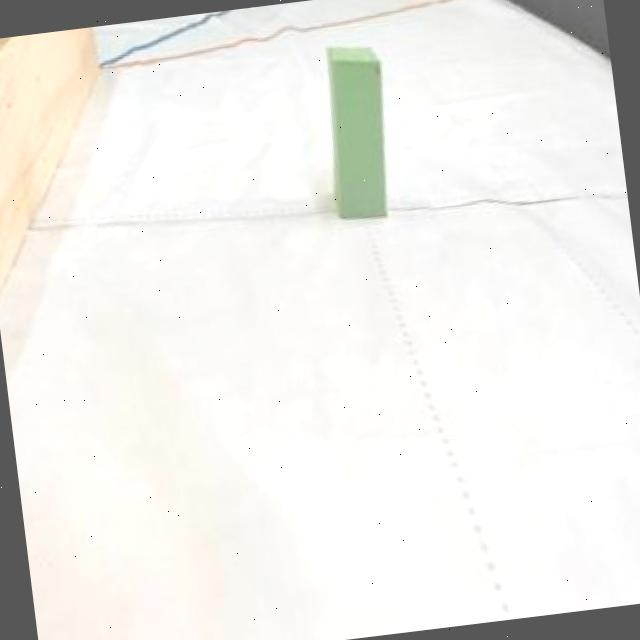greenbox: (317, 42, 396, 220)
